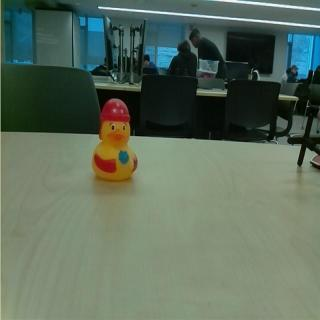duck_specialty: (91, 97, 140, 183)
